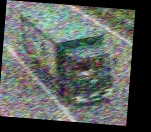truck: (13, 3, 122, 108)
